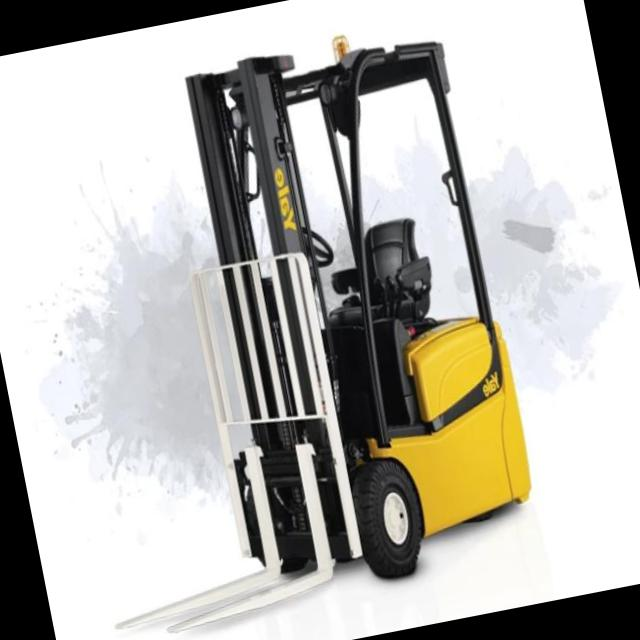forklift: (121, 0, 562, 621)
